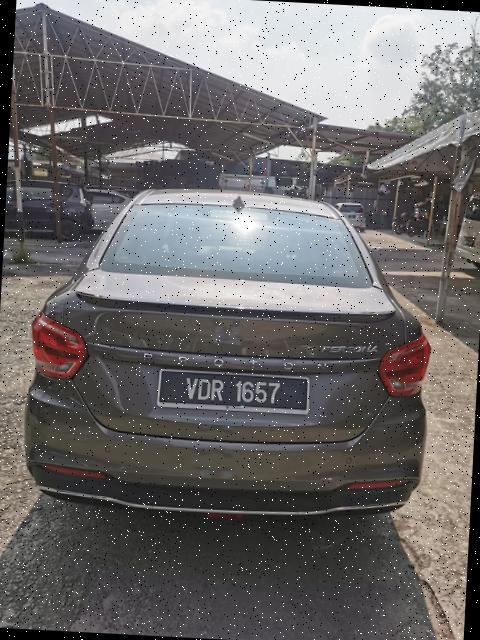License_Plate: (168, 372, 295, 414)
car: (14, 171, 451, 536)
